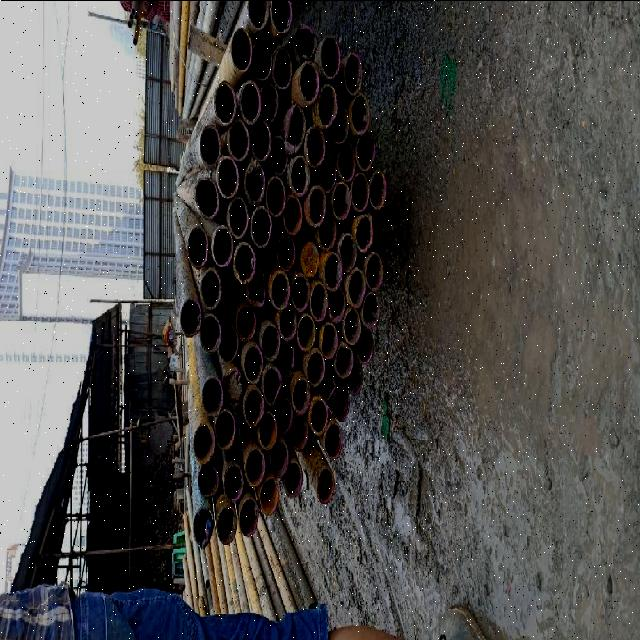pipe: (193, 178, 219, 220), (213, 80, 236, 126), (230, 28, 252, 74), (238, 80, 260, 126), (216, 156, 238, 201), (213, 409, 236, 452), (192, 422, 214, 466), (199, 268, 221, 312), (211, 225, 233, 269), (198, 126, 220, 170), (233, 242, 255, 286), (227, 119, 249, 163), (250, 206, 272, 250), (243, 162, 265, 205), (192, 507, 214, 549), (285, 104, 306, 148), (318, 84, 338, 130), (201, 377, 223, 418), (242, 387, 264, 428), (249, 41, 271, 82), (179, 298, 201, 338), (196, 460, 218, 500), (199, 314, 221, 354), (250, 119, 270, 163), (265, 175, 285, 219), (306, 186, 326, 230), (298, 61, 318, 105), (320, 36, 340, 80), (268, 134, 288, 177), (187, 226, 207, 268), (223, 368, 244, 408), (228, 197, 248, 239), (242, 343, 262, 385), (305, 127, 325, 169), (293, 24, 316, 60), (218, 322, 238, 363), (258, 83, 278, 124), (257, 411, 277, 452), (262, 366, 282, 407), (289, 156, 309, 197), (322, 252, 342, 293), (216, 506, 236, 546), (223, 463, 243, 503), (244, 448, 264, 488), (258, 476, 278, 516), (268, 439, 288, 479), (346, 268, 366, 308), (272, 48, 291, 90), (344, 52, 362, 96), (238, 498, 257, 538), (235, 304, 255, 342), (260, 324, 280, 362), (290, 272, 309, 312), (308, 398, 328, 436), (317, 212, 336, 252), (317, 154, 336, 194), (338, 233, 357, 273), (220, 276, 238, 318), (351, 94, 369, 136), (270, 2, 292, 36), (288, 414, 308, 451), (283, 196, 301, 237), (270, 272, 289, 310), (292, 376, 310, 416), (309, 282, 327, 322), (320, 321, 338, 361), (342, 307, 360, 347), (337, 143, 355, 183), (330, 105, 348, 145), (356, 132, 374, 172), (283, 461, 302, 498), (278, 304, 296, 342), (296, 314, 314, 352), (306, 350, 324, 388), (324, 422, 342, 460), (328, 286, 346, 324), (334, 344, 353, 380), (332, 182, 350, 220), (345, 358, 363, 396), (365, 252, 383, 290), (354, 214, 372, 252), (247, 268, 264, 308), (351, 172, 368, 212), (274, 398, 292, 435), (276, 342, 294, 379), (276, 235, 294, 272), (300, 242, 318, 279), (318, 364, 336, 401), (247, 1, 269, 31), (316, 468, 334, 504), (355, 328, 373, 364), (361, 290, 378, 328), (369, 170, 385, 210), (331, 387, 349, 422)
